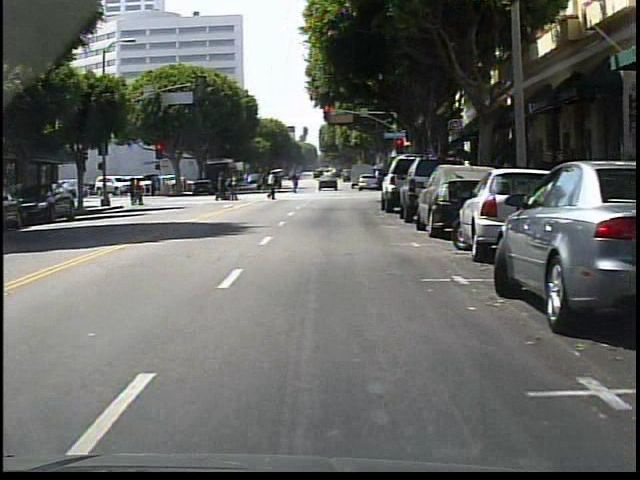person: (261, 168, 283, 204), (287, 169, 305, 198)
